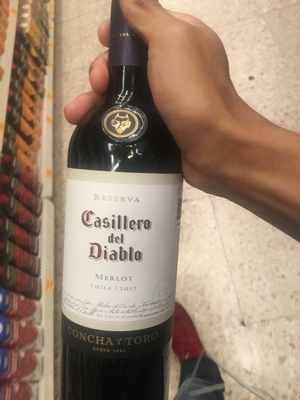casillero del diablo merlot: (49, 16, 192, 400)
